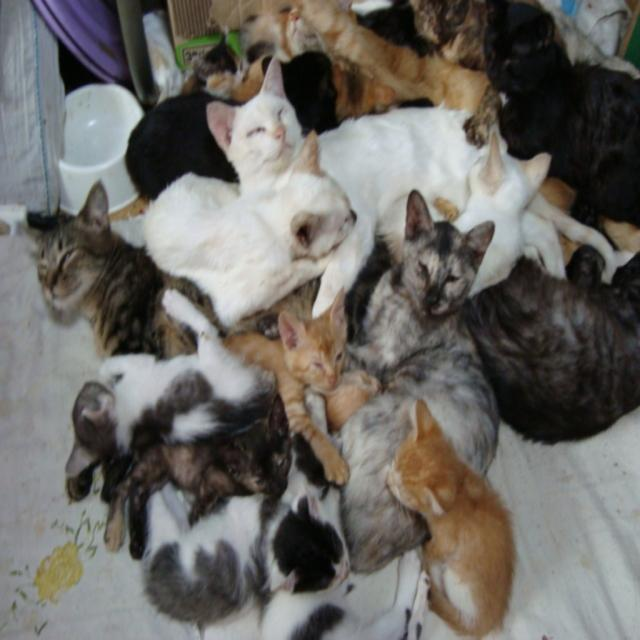Cat: (36, 0, 638, 638)
